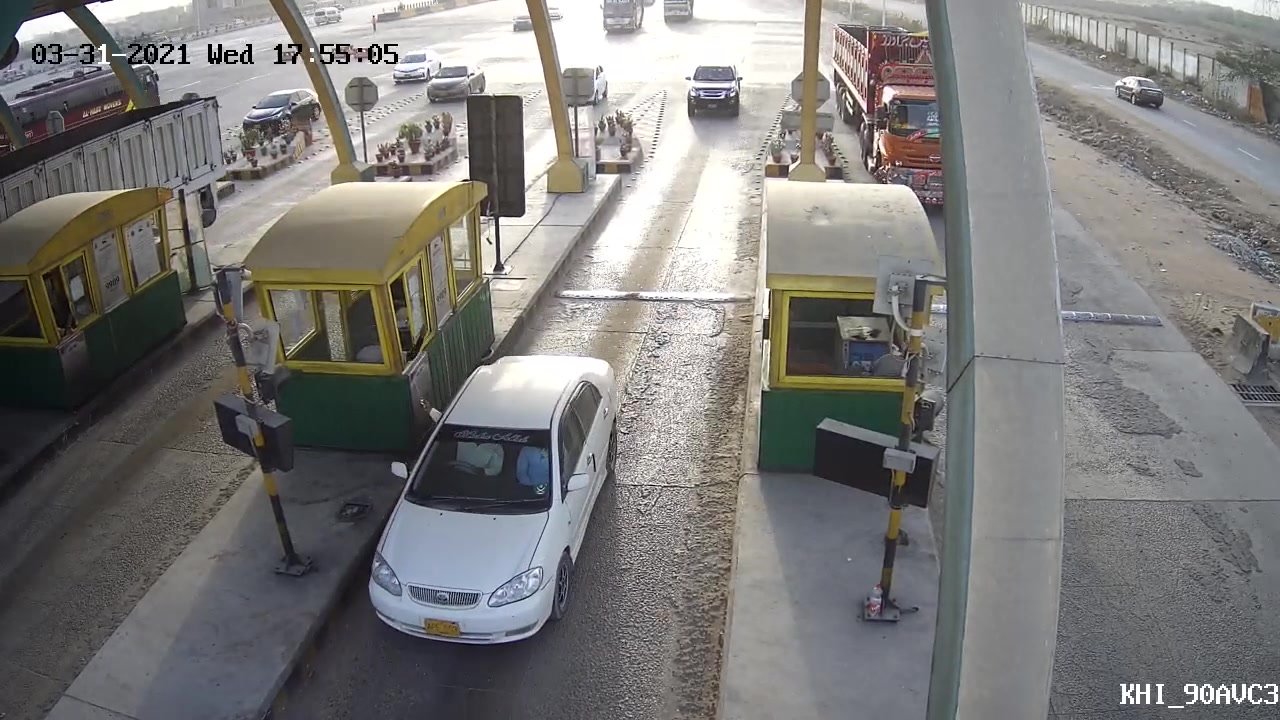F1: (356, 352, 627, 649)
